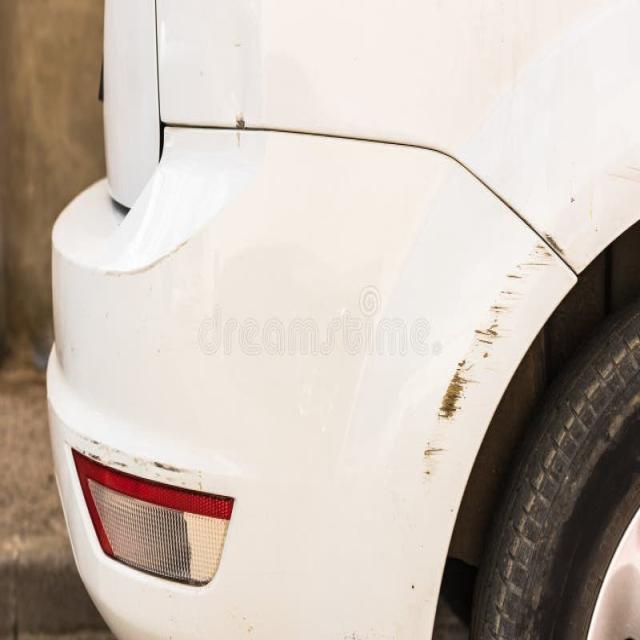scratch: (418, 157, 640, 497), (66, 431, 206, 491), (107, 237, 189, 275), (230, 115, 246, 143)
